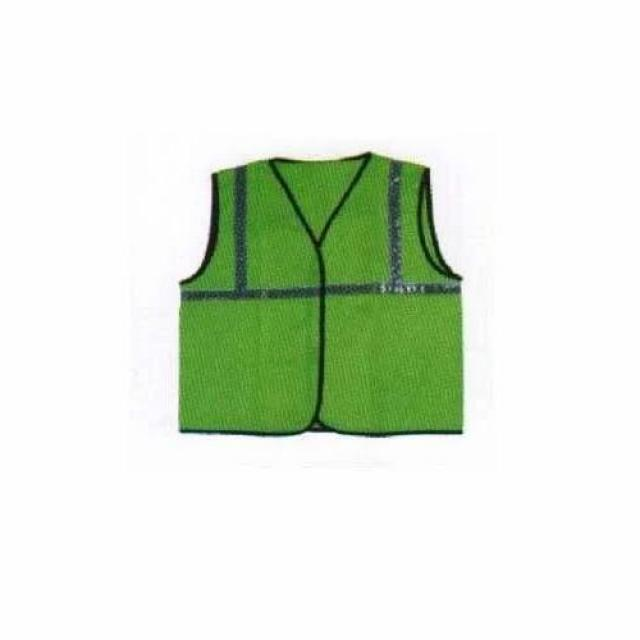reflective_jacket: (124, 143, 500, 447)
